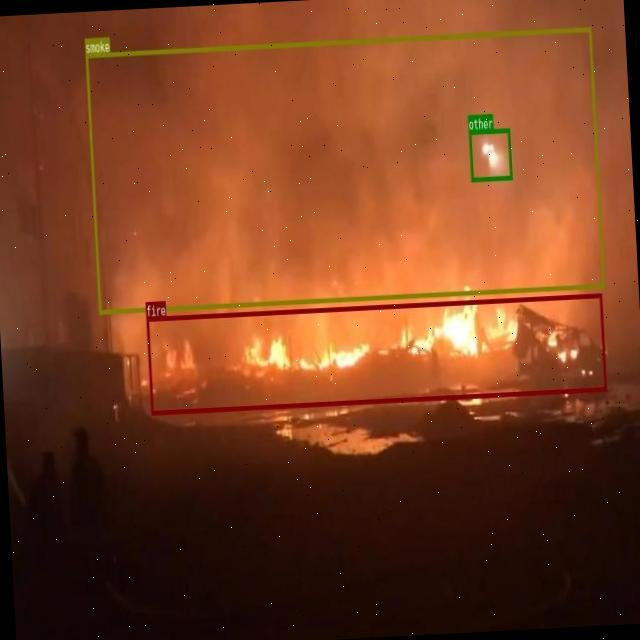fire: (146, 293, 606, 414)
smoke: (86, 27, 604, 314)
